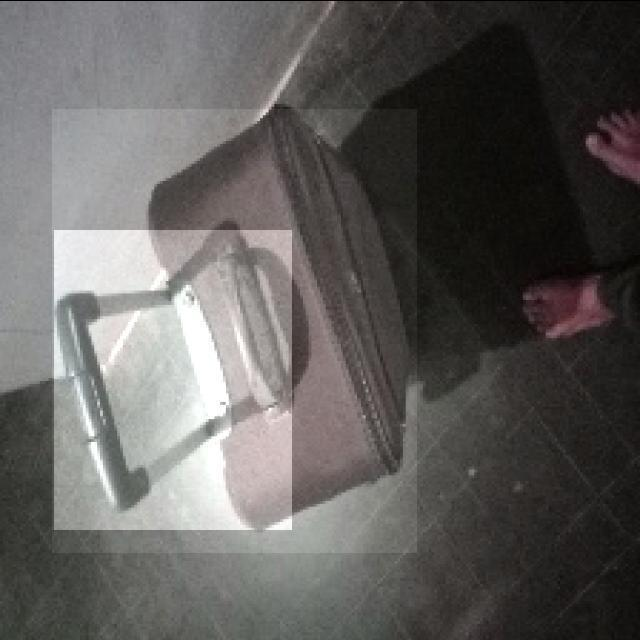Suitcase: (49, 109, 413, 536)
